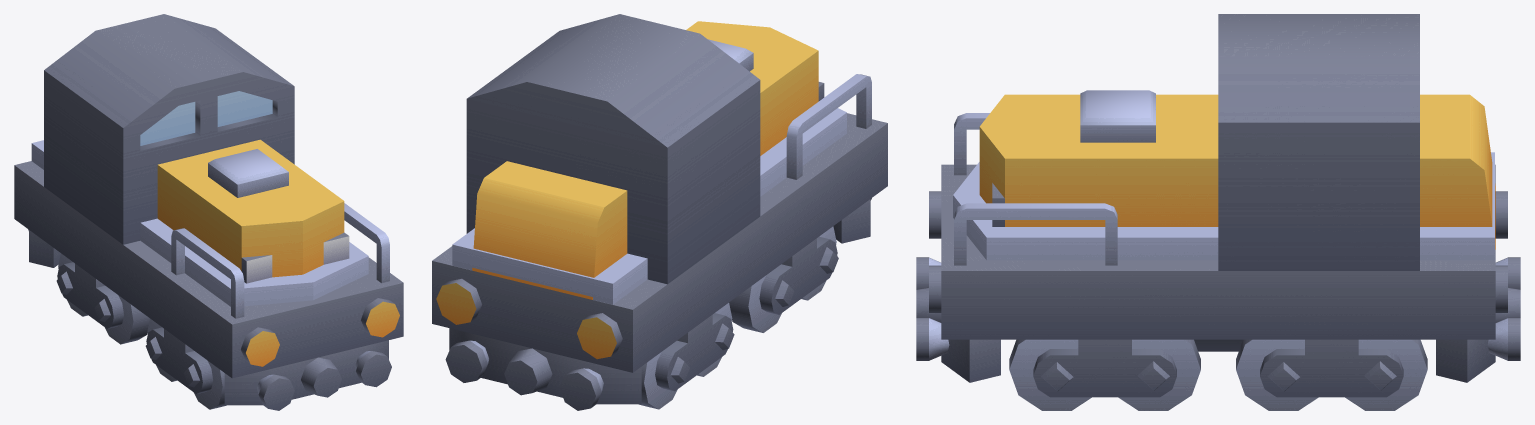
The model's file is train-diesel-c.glb.
The picture shows the model from 3 angles, left to right: view 1: azimuth 30°, elevation 25°; view 2: azimuth 150°, elevation 25°; view 3: azimuth 270°, elevation 25°; orthographic projection. The views are drawn at different scales.
Parts seen in each view (by area): view 1: train-diesel-c, wheels-back, wheels-front; view 2: train-diesel-c, wheels-front, wheels-back; view 3: train-diesel-c, wheels-back, wheels-front.
Boxes of the visible parts, x1,y1,x2,y2 form: train-diesel-c: (14,14,403,410); wheels-back: (56,253,149,344); wheels-front: (145,318,226,409); train-diesel-c: (432,14,887,410); wheels-front: (729,226,838,332); wheels-back: (639,303,734,409); train-diesel-c: (916,14,1520,382); wheels-back: (1236,339,1427,410); wheels-front: (1009,339,1200,410).
Bounding box in the file's own units: 1 × 1.46 × 2.4.
Materials: 1 (1 with a texture image).
